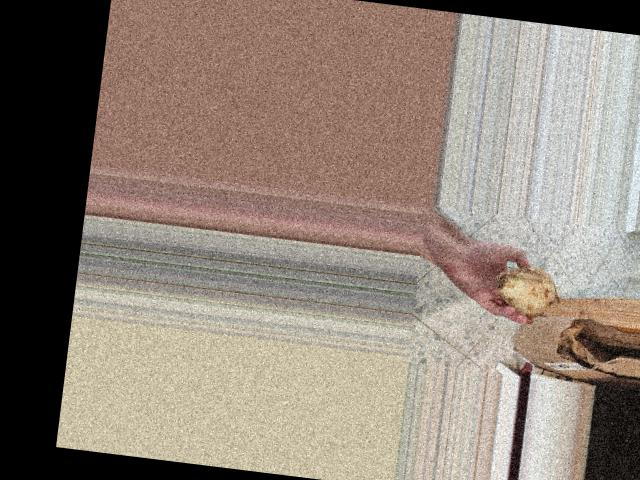onion: (489, 259, 564, 321)
